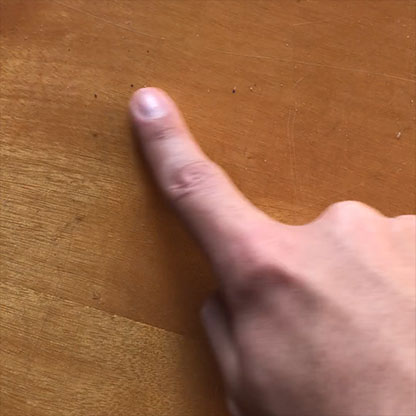fingertip: (117, 79, 183, 138)
